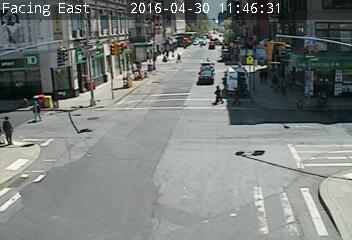neg: (139, 69, 165, 104), (116, 71, 137, 98), (261, 35, 272, 49), (231, 66, 242, 79)
pos: (226, 85, 244, 110), (28, 98, 45, 120), (209, 83, 224, 103), (171, 47, 185, 66)
